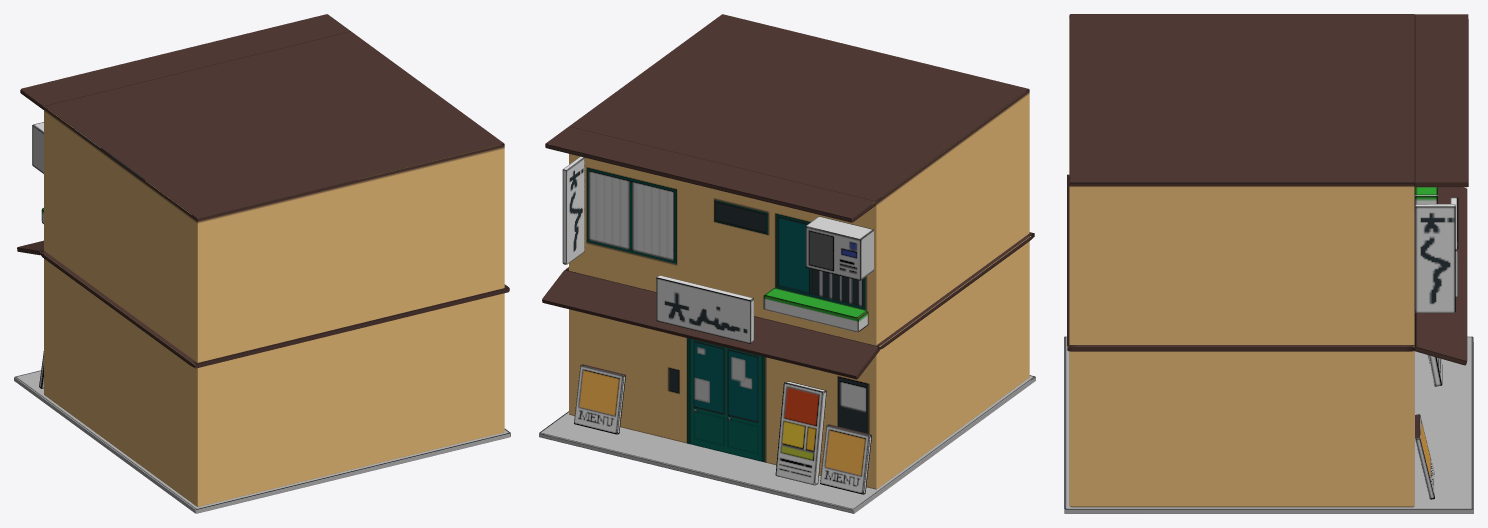
The picture shows the model from 3 angles, left to right: view 1: azimuth 30°, elevation 25°; view 2: azimuth 150°, elevation 25°; view 3: azimuth 270°, elevation 25°; orthographic projection. The views are drawn at different scales.
Parts seen in each view (by area): view 1: group3, plane; view 2: group3, plane; view 3: group3, plane.
Boxes of the visible parts, <box> form: group3: <box>17,14,509,506</box>; plane: <box>14,370,510,513</box>; group3: <box>542,14,1034,494</box>; plane: <box>539,375,1035,513</box>; group3: <box>1067,14,1468,507</box>; plane: <box>1064,336,1473,513</box>.
Size of the model in its own units: 1000 by 888 by 1000.
Materials: 1 (1 with a texture image).
